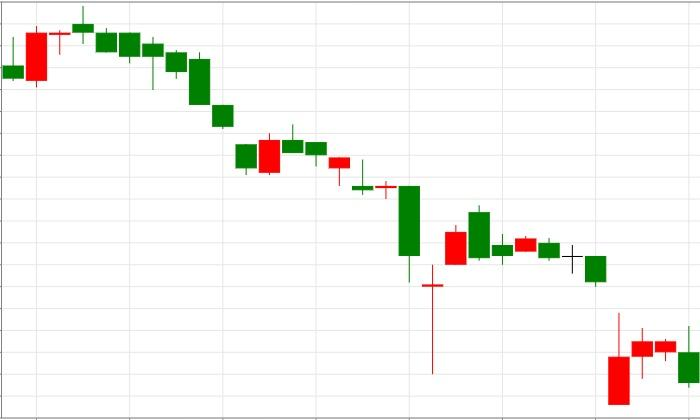bullish_engulfing_rise: (72, 5, 281, 174)
morning_star_rise: (283, 123, 467, 374)
